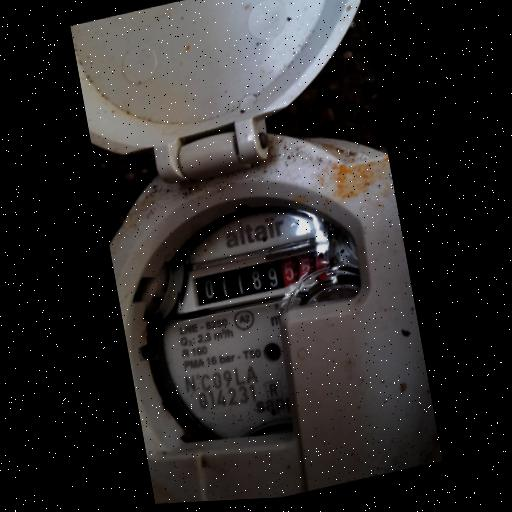0: (194, 273, 220, 305)
1: (231, 267, 251, 298), (215, 269, 235, 299)
5: (294, 250, 317, 280), (279, 255, 300, 286)
8: (245, 262, 266, 294)
9: (262, 258, 285, 291)
border_water_meter_number: (186, 238, 337, 314)
